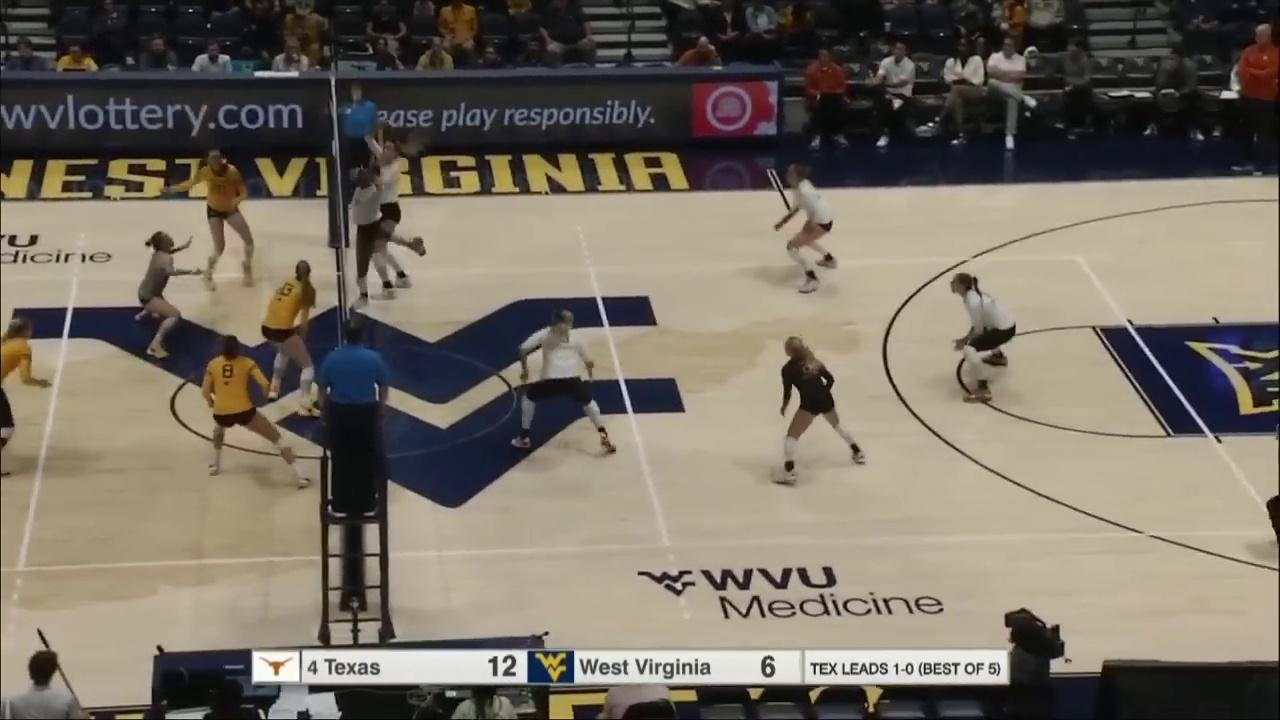player: (202, 338, 292, 485), (778, 338, 866, 482), (163, 155, 252, 292), (523, 311, 605, 449), (363, 141, 425, 296), (952, 270, 1016, 413), (263, 263, 318, 417), (771, 167, 838, 293), (343, 166, 398, 307), (135, 232, 197, 356), (1, 319, 33, 473)
refree: (325, 319, 379, 516), (338, 85, 377, 212)
